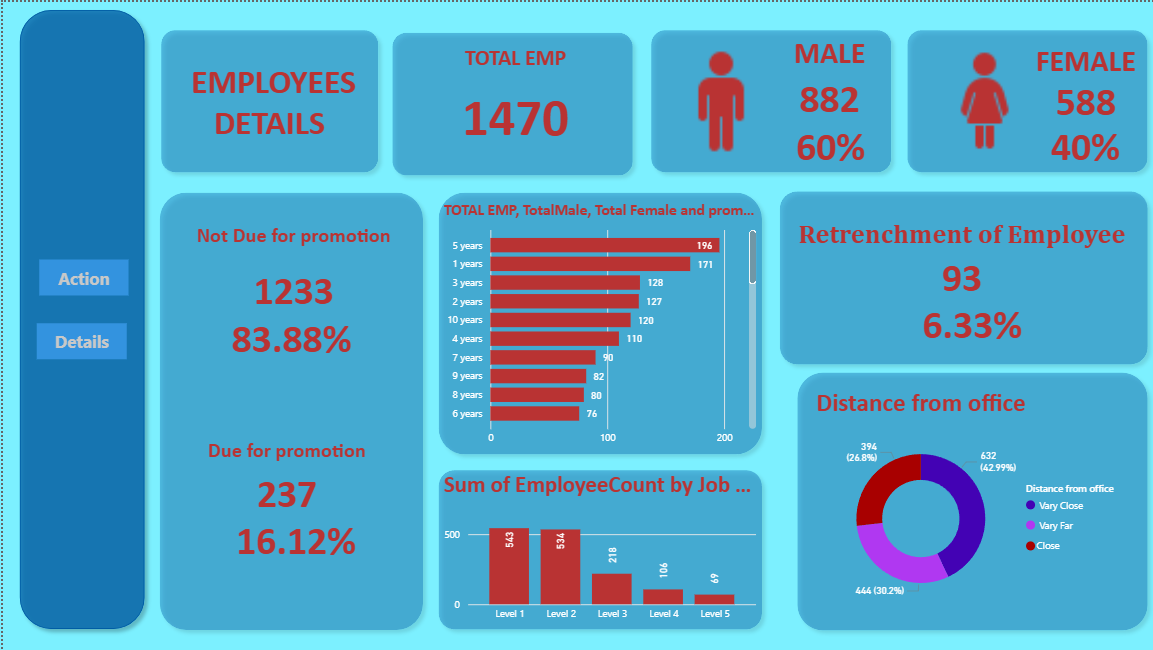

Layout of this report page (visuals, bound fields, positions):
{"tool":"powerbi","page":{"name":"Home","canvas":[1280,720],"ordinal":0},"visuals":[{"type":"shape","box":[9.8,0,156.5,705.6],"z":0},{"type":"shape","box":[166.3,22,259.2,176.1],"z":1000},{"type":"shape","box":[423.6,24.7,285.1,176.8],"z":2000},{"type":"shape","box":[710.5,22,284.9,176.1],"z":3000},{"type":"shape","box":[995.4,22,284.9,176.1],"z":4000},{"type":"textbox","box":[166.3,61.1,258,111.3],"z":5000},{"type":"card","title":"TOTAL EMP","fields":{"Values":["Sum(in.EmployeeCount)"]},"box":[440.2,47.7,258,125],"z":6000},{"type":"card","title":"MALE","fields":{"Values":["in.TotalMale"]},"box":[853.5,36,128.4,90.5],"z":7000},{"type":"image","box":[732.5,35.5,129.6,149.2],"z":8000},{"type":"image","box":[1021.1,47.7,138.2,124.7],"z":9000},{"type":"card","title":"FEMALE","fields":{"Values":["in.Total Female"]},"box":[1138.5,44,128.4,81.9],"z":10000},{"type":"card","fields":{"Values":["in.%MALE"]},"box":[873.2,112.4,91.8,85],"z":11000},{"type":"card","fields":{"Values":["in.%FEMALE"]},"box":[1139.1,122,127.5,67.2],"z":12000},{"type":"shape","box":[165.2,202.2,310.4,504],"z":13000},{"type":"shape","box":[475.6,202.2,377.3,309],"z":14000},{"type":"card","title":"Due for promotion","fields":{"Values":["in.promotion due"]},"box":[165.2,464.2,300.4,129.6],"z":15000},{"type":"card","title":"Not Due for promotion","fields":{"Values":["in.Not Due for Promotion"]},"box":[205,225,234.9,156.6],"z":16000},{"type":"card","fields":{"Values":["in.%NotDue"]},"box":[244.9,334.6,152.3,66.9],"z":17000},{"type":"card","fields":{"Values":["in.%Due"]},"box":[244.9,556.7,162.3,72.6],"z":18000},{"type":"barChart","fields":{"Y":["in.TOTAL EMP"],"Category":["in.Service years"]},"box":[484.1,219.3,357.4,281.9],"z":19000},{"type":"shape","box":[475.6,511.1,377.3,195.1],"z":20000},{"type":"clusteredColumnChart","fields":{"Y":["Sum(in.EmployeeCount)"],"Category":["in.Job Level"]},"box":[484.1,521.1,357.4,176.6],"z":21000},{"type":"shape","box":[853.5,201.8,426.8,210.3],"z":22000},{"type":"shape","box":[873.1,402.3,407.2,304.5],"z":23000},{"type":"donutChart","title":" Distance from office","fields":{"Y":["CountNonNull(in.Distance from office)"],"Category":["in.Distance from office"]},"box":[898.4,427.1,358.8,259.1],"z":24000},{"type":"card","title":"Retrenchment of Employee","fields":{"Values":["in.Emp retrenchment"]},"box":[873.1,218.9,384,128.4],"z":25000},{"type":"card","fields":{"Values":["in.%retrenchment"]},"box":[1013.7,316.7,126,72.1],"z":26000},{"type":"actionButton","title":"Action","box":[39.7,286.7,99.3,39.7],"z":27000},{"type":"actionButton","title":"Details","box":[37.9,357.1,100.3,40.4],"z":28000}]}

Visuals, with their boxes in screenshot pixels (x1, y1, x2, y2), scaled from the page's 1280x720 canvas onto the 1153x650 screenshot:
shape: 9, 0, 150, 637
shape: 150, 20, 383, 179
shape: 382, 22, 638, 182
shape: 640, 20, 897, 179
shape: 897, 20, 1152, 179
textbox: 150, 55, 382, 156
"TOTAL EMP" card: 397, 43, 629, 156
"MALE" card: 769, 32, 884, 114
image: 660, 32, 777, 167
image: 920, 43, 1044, 156
"FEMALE" card: 1026, 40, 1141, 114
card - in.%MALE: 787, 101, 869, 178
card - in.%FEMALE: 1026, 110, 1141, 171
shape: 149, 183, 428, 638
shape: 428, 183, 768, 462
"Due for promotion" card: 149, 419, 419, 536
"Not Due for promotion" card: 185, 203, 396, 344
card - in.%NotDue: 221, 302, 358, 362
card - in.%Due: 221, 503, 367, 568
barChart - in.TOTAL EMP x in.Service years: 436, 198, 758, 452
shape: 428, 461, 768, 638
clusteredColumnChart - Sum(in.EmployeeCount) x in.Job Level: 436, 470, 758, 630
shape: 769, 182, 1152, 372
shape: 786, 363, 1152, 638
" Distance from office" donutChart: 809, 386, 1132, 619
"Retrenchment of Employee" card: 786, 198, 1132, 314
card - in.%retrenchment: 913, 286, 1027, 351
"Action" actionButton: 36, 259, 125, 295
"Details" actionButton: 34, 322, 124, 359
